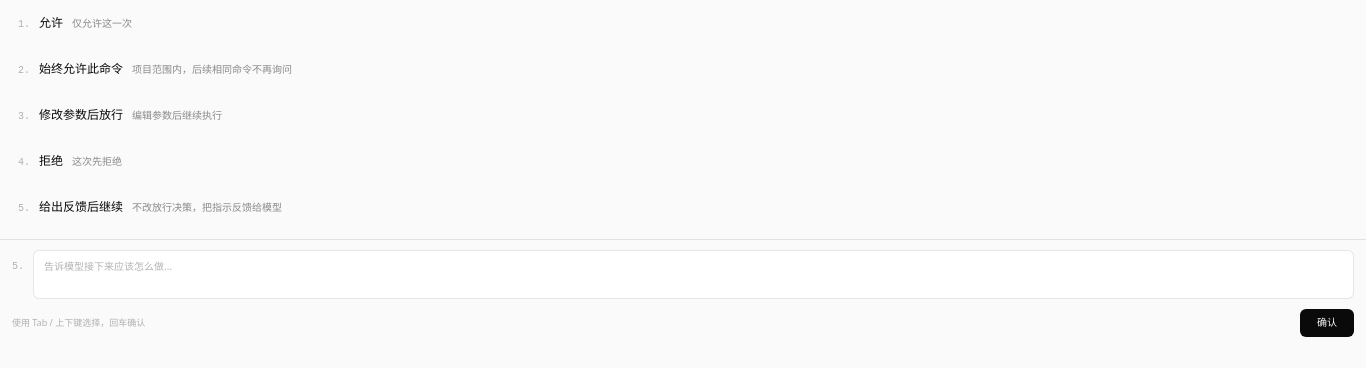
Test case: DecisionForm · 四决策提交体 › 未选决策直接确认 → decision-error 提示，不发请求
Click the button with test id "decision-submit" at (1327, 323), box [1300,309,1354,337]
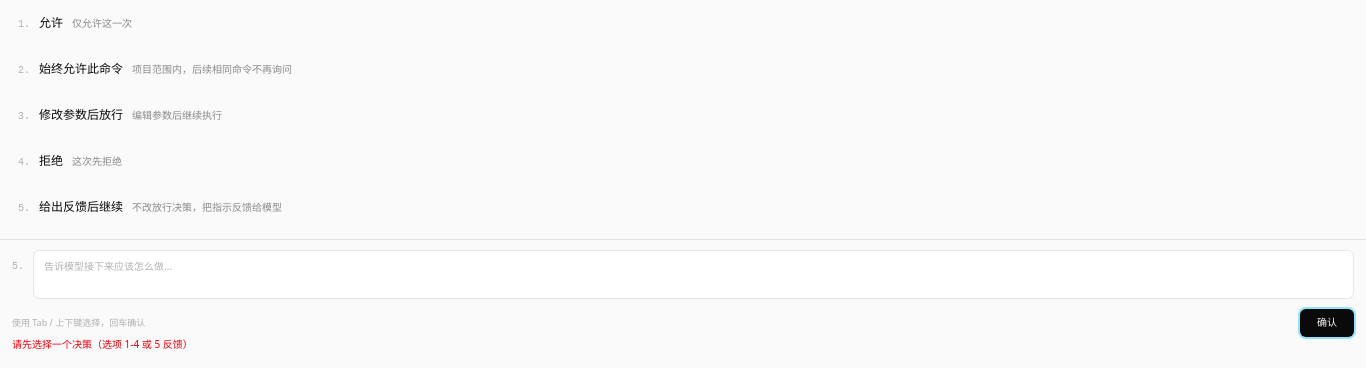
Result: the message with test id "decision-error" shows "请先选择一个决策" at [12,337,193,351]
